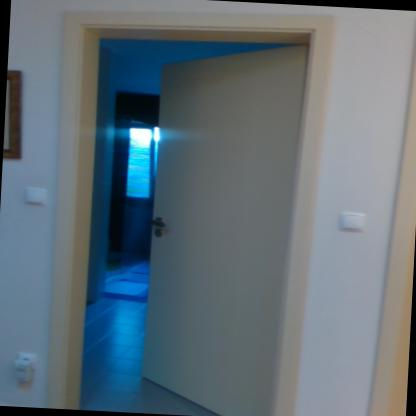semi: (37, 3, 330, 415)
